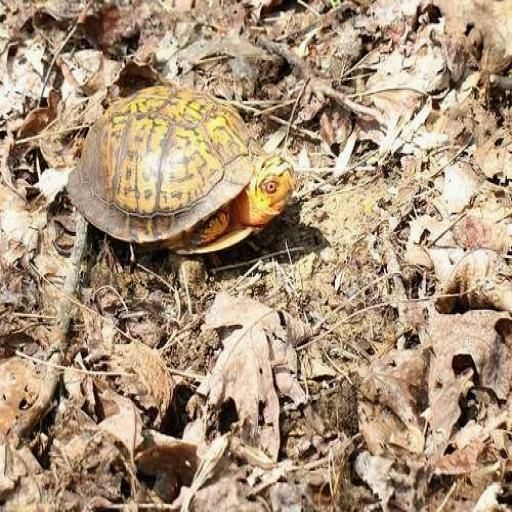turtle: (58, 74, 332, 267)
